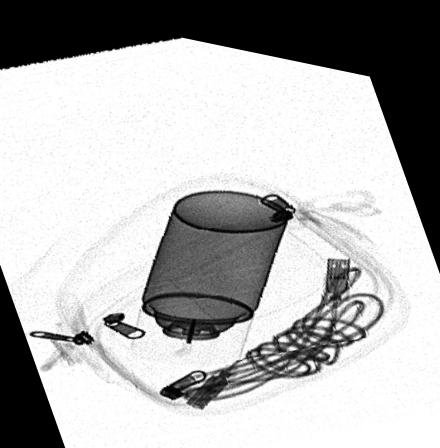Sprayer: (129, 181, 289, 358)
